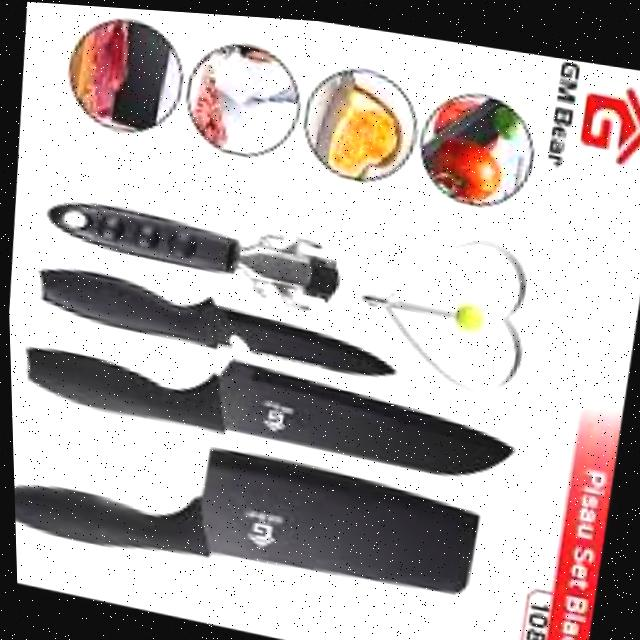knife: (10, 416, 481, 599), (18, 327, 519, 481), (33, 261, 397, 373)
